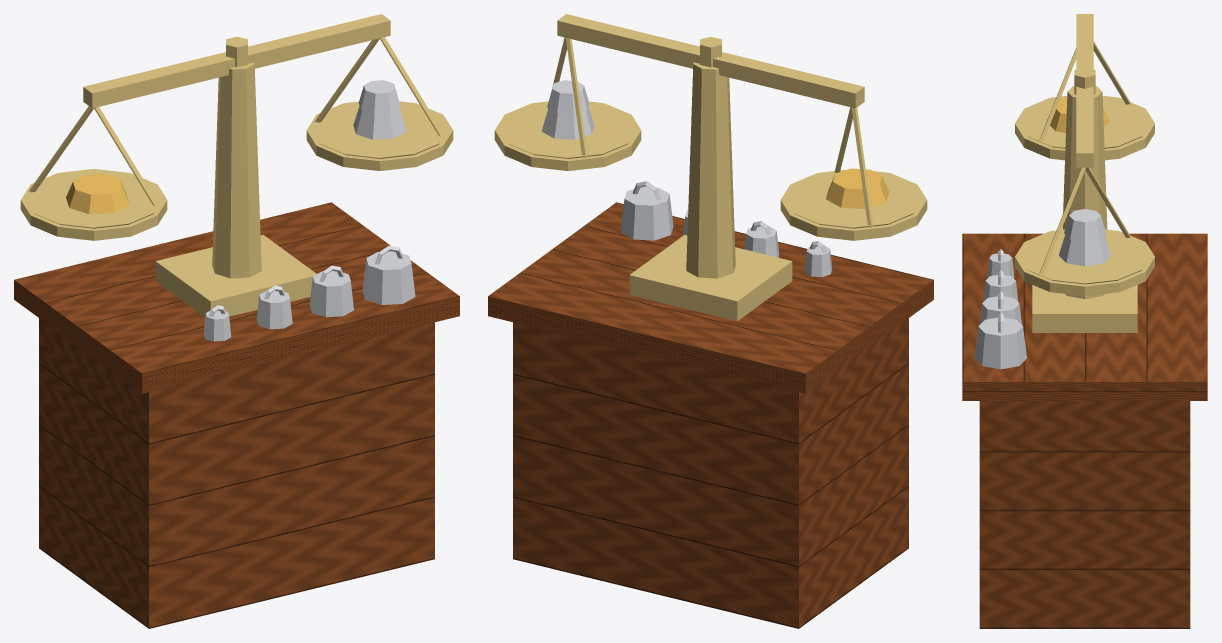
The model's file is indian-bazaar-street-and-temple-weighing-scale-with-we-2c14af0f__36556.glb.
3 views of the same model, side by side, from view 1: azimuth 30°, elevation 25°; view 2: azimuth 150°, elevation 25°; view 3: azimuth 270°, elevation 25° (orthographic). The views are drawn at different scales.
Parts seen in each view (by area): view 1: weighing-scale-with-weights-timber, scale-beam/brass, weighing-scale-with-weights-brass, weighing-scale-with-weights-steel, scale-beam/steel, scale-beam/saffron; view 2: weighing-scale-with-weights-timber, scale-beam/brass, weighing-scale-with-weights-brass, weighing-scale-with-weights-steel, scale-beam/steel, scale-beam/saffron; view 3: weighing-scale-with-weights-timber, scale-beam/brass, weighing-scale-with-weights-brass, weighing-scale-with-weights-steel, scale-beam/steel, scale-beam/saffron.
Boxes of the visible parts, x1,y1,x2,y2 form: weighing-scale-with-weights-timber: [14, 202, 459, 628]; scale-beam/brass: [20, 14, 453, 240]; weighing-scale-with-weights-brass: [155, 62, 316, 316]; weighing-scale-with-weights-steel: [203, 245, 415, 341]; scale-beam/steel: [353, 80, 406, 139]; scale-beam/saffron: [66, 174, 129, 214]; weighing-scale-with-weights-timber: [488, 202, 933, 628]; scale-beam/brass: [494, 14, 927, 240]; weighing-scale-with-weights-brass: [629, 62, 792, 321]; weighing-scale-with-weights-steel: [620, 181, 832, 276]; scale-beam/steel: [541, 80, 594, 139]; scale-beam/saffron: [826, 168, 889, 208]; weighing-scale-with-weights-timber: [962, 233, 1207, 628]; scale-beam/brass: [1015, 14, 1154, 295]; weighing-scale-with-weights-brass: [1032, 86, 1137, 332]; weighing-scale-with-weights-steel: [974, 249, 1026, 369]; scale-beam/steel: [1059, 209, 1110, 266]; scale-beam/saffron: [1046, 97, 1109, 132].
Size of the model in its own units: 1.3 by 1.54 by 0.7.
Materials: 4 (1 with a texture image).
